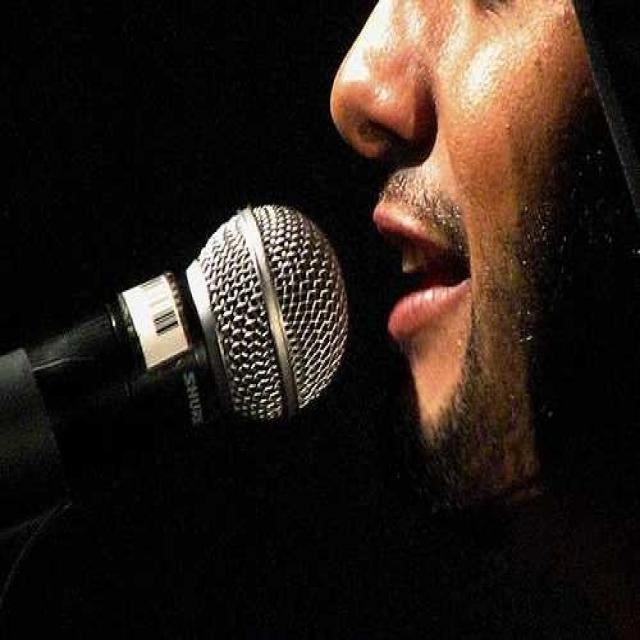microphone: (5, 196, 352, 546)
